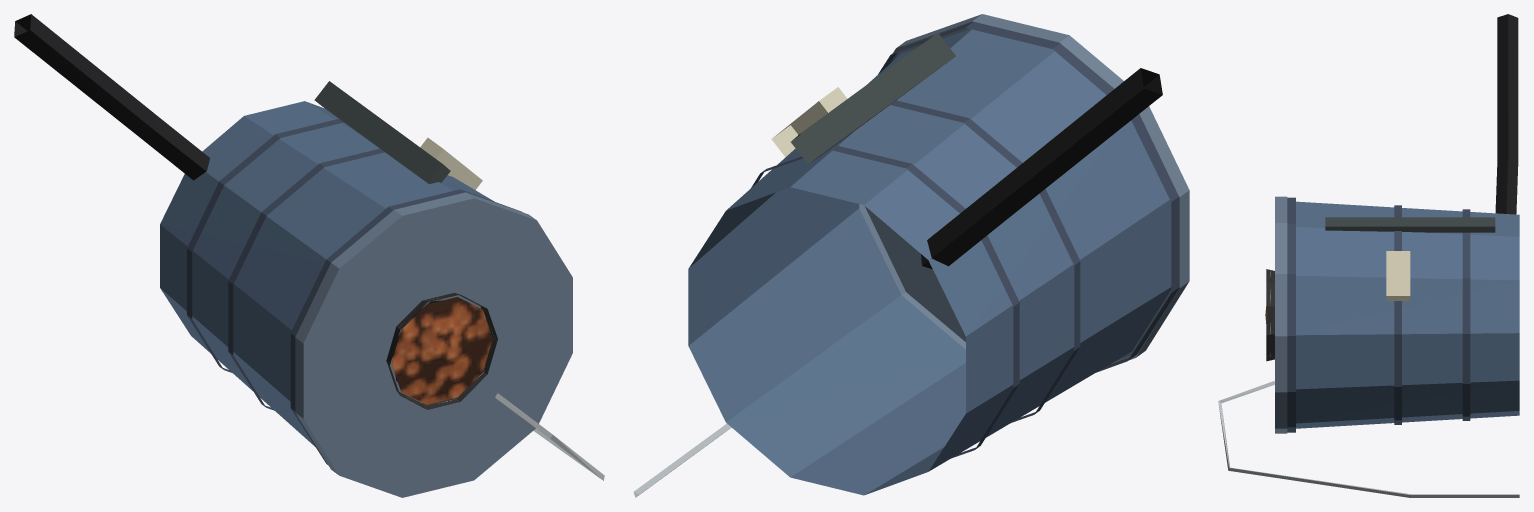
File: pot_rdwc_full.obj
3 renders of one model, left to right at view 1: azimuth 30°, elevation 25°; view 2: azimuth 150°, elevation 25°; view 3: azimuth 270°, elevation 25°, orthographic. The views are drawn at different scales.
Bounding box in the file's own units: 0.775 × 0.776 × 0.633.
1 material, 1 textured.
